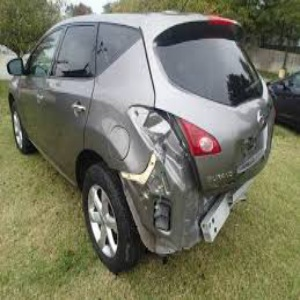bumper: (134, 187, 232, 259)
